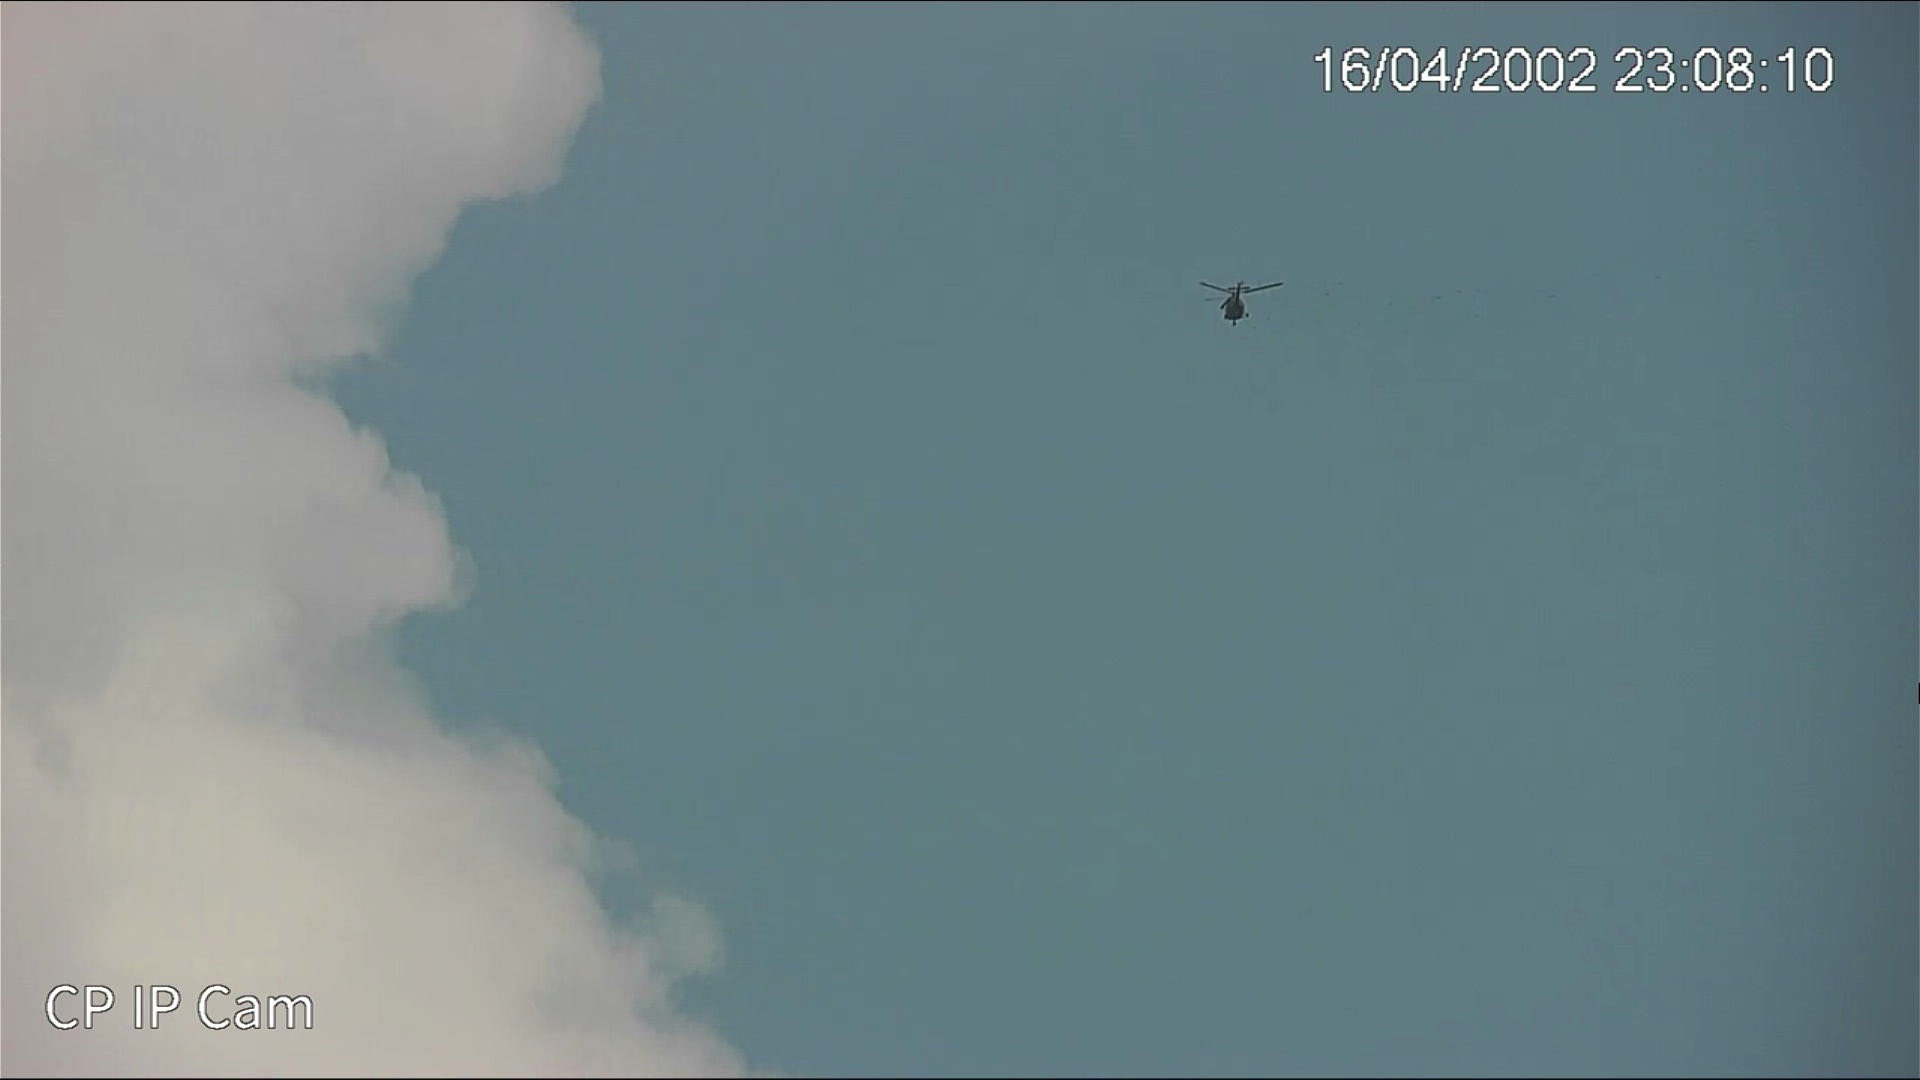SU_30: (1197, 276, 1284, 328)
